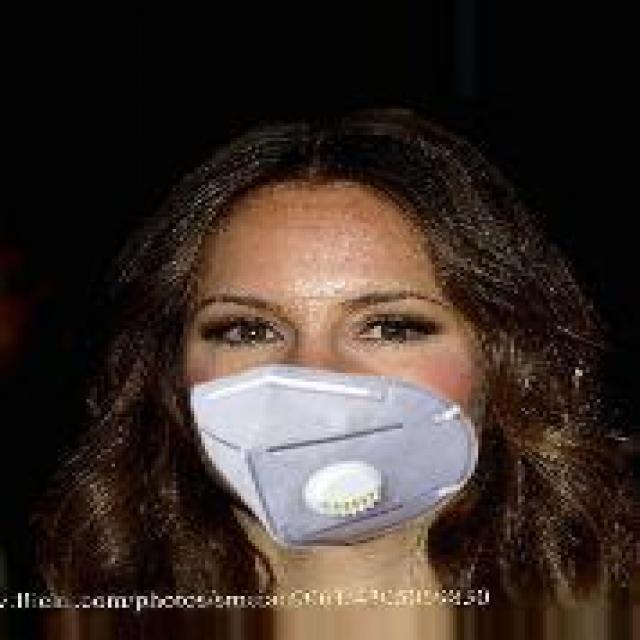mask: (90, 91, 572, 596)
